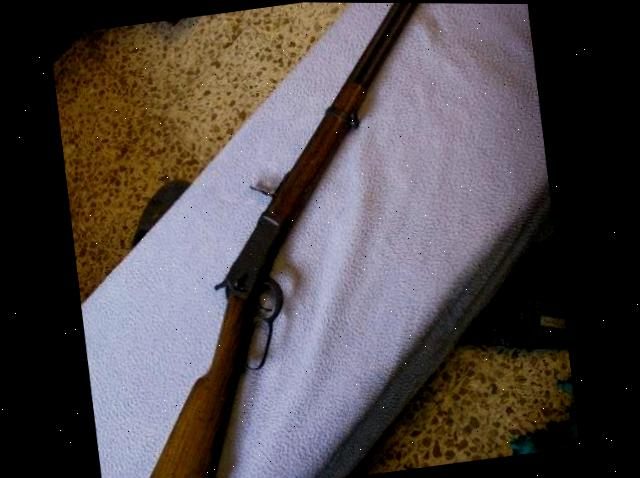rifle: (55, 0, 534, 478)
